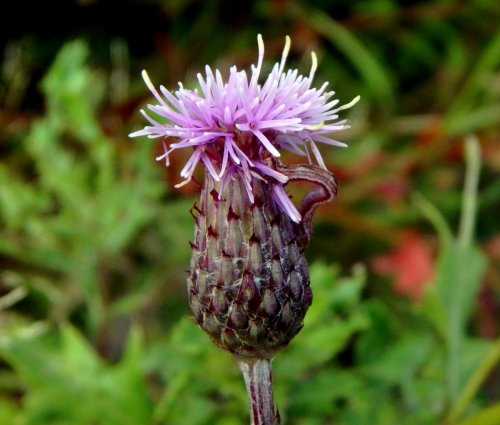thistle: (116, 57, 339, 364)
